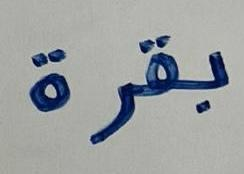beh: (185, 28, 237, 131)
qaf: (135, 11, 183, 114)
reh: (80, 59, 134, 150)
teh_marbota: (20, 31, 78, 122)
